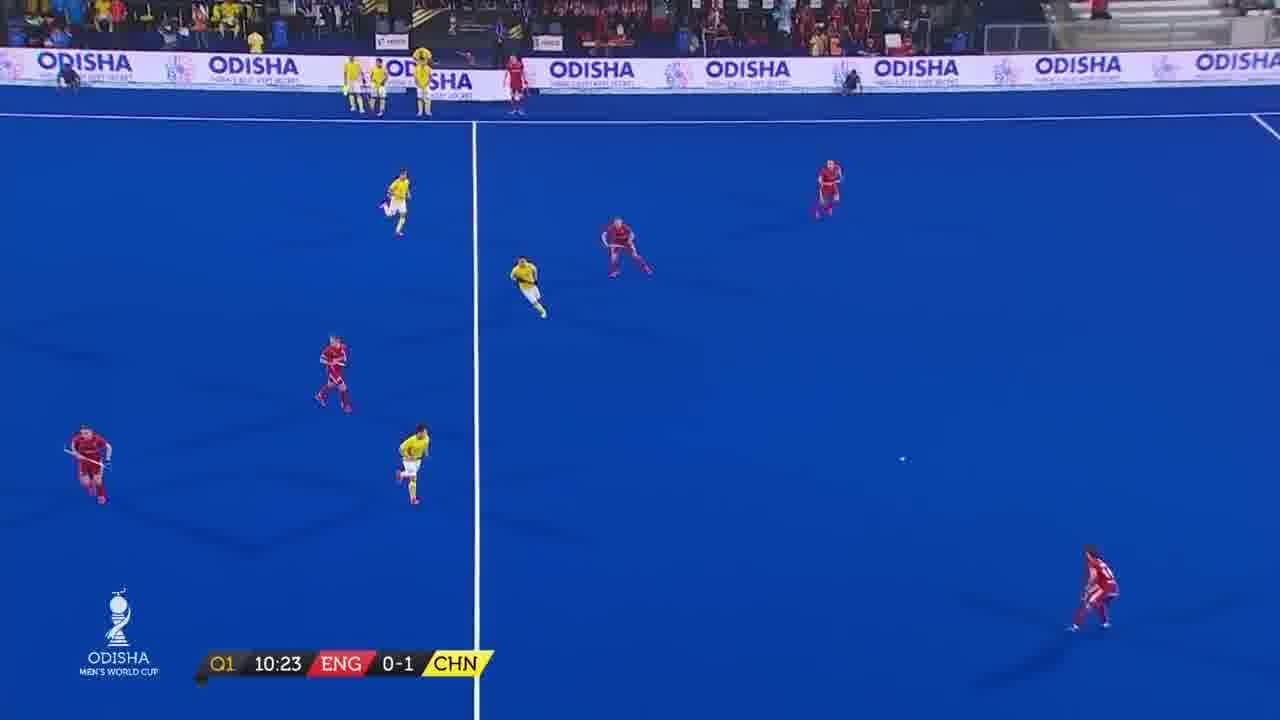ball: (890, 446, 918, 466)
